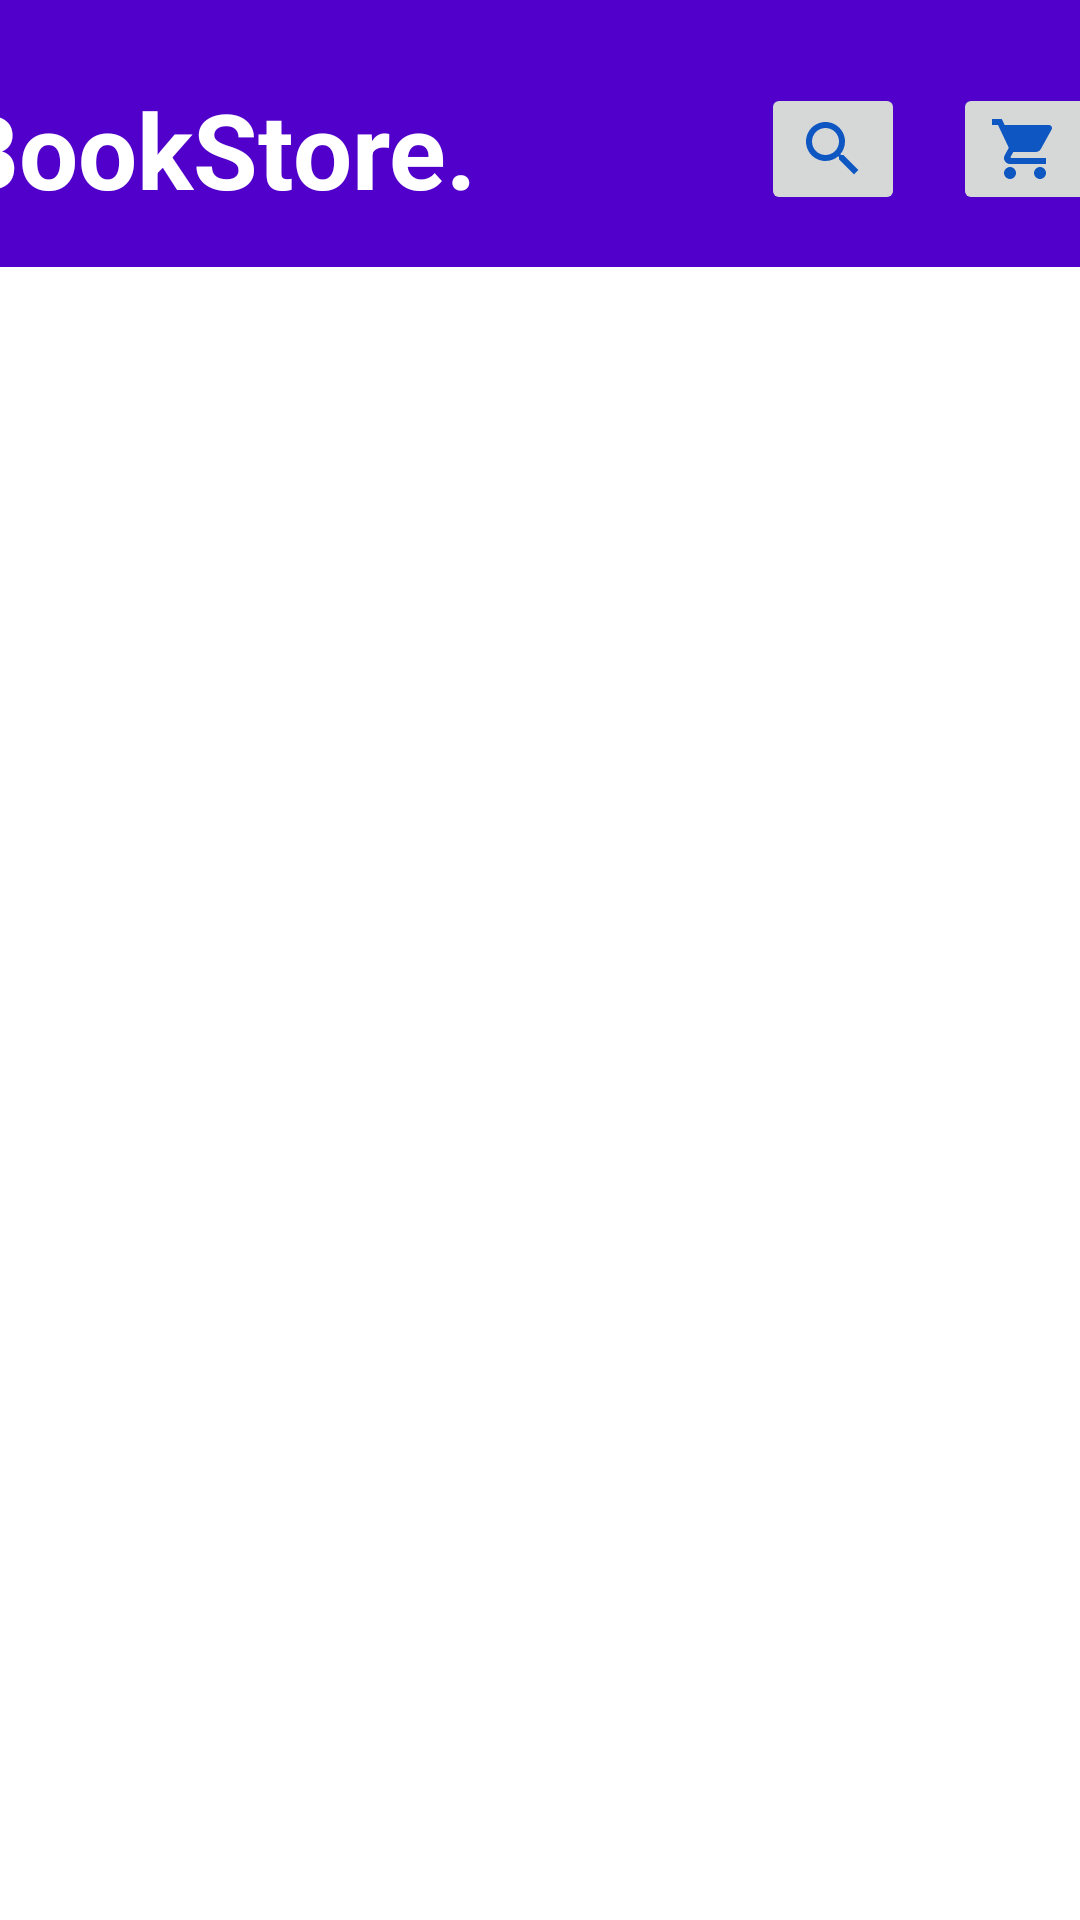

Icons on this 1080w x 1920h Android screen, each with the point to tap as (x=x, y=y):
search: (x=833, y=149)
